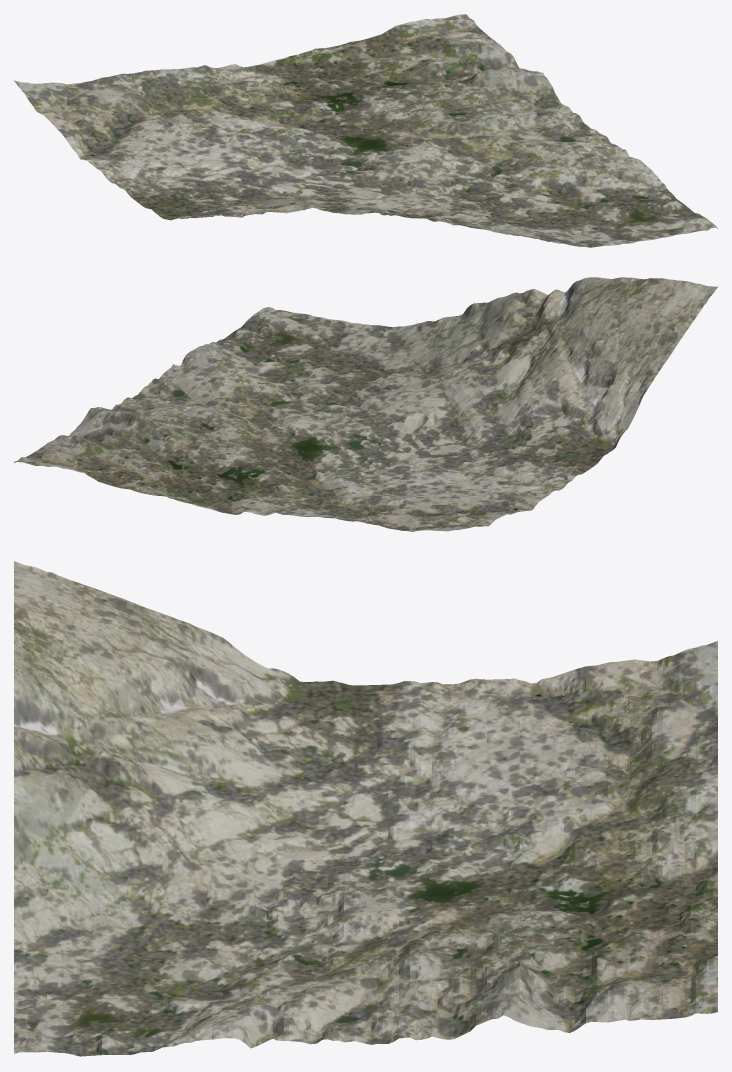
3 renders of one model, top to bottom at view 1: azimuth 30°, elevation 25°; view 2: azimuth 150°, elevation 25°; view 3: azimuth 270°, elevation 25°, orthographic. The views are drawn at different scales.
Size of the model in its own units: 500 by 142 by 481.
1 material, 1 textured.
